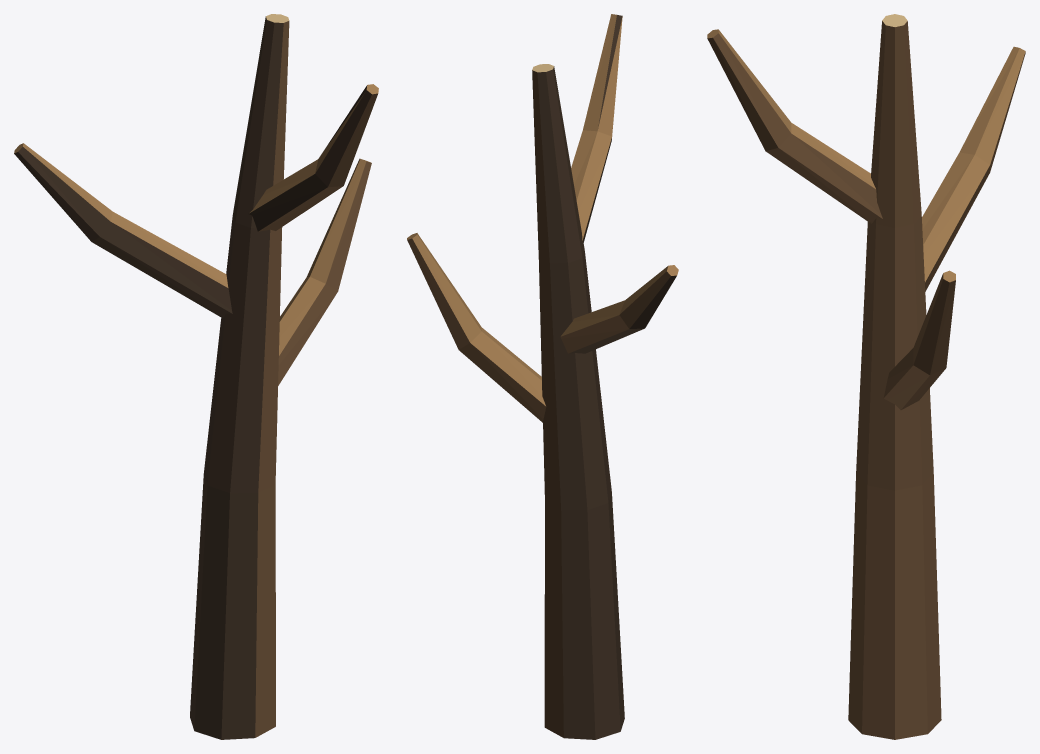
The model's file is TW_TREE_DEAD_FORK_A_LOD0.glb.
3 views of the same model, side by side, from view 1: azimuth 30°, elevation 25°; view 2: azimuth 150°, elevation 25°; view 3: azimuth 270°, elevation 25° (orthographic). The views are drawn at different scales.
Visible parts, largest first — view 1: TW_TREE_DEAD_FORK_A_LOD0; view 2: TW_TREE_DEAD_FORK_A_LOD0; view 3: TW_TREE_DEAD_FORK_A_LOD0.
Part boxes in pixels (bbox=[...]): TW_TREE_DEAD_FORK_A_LOD0: bbox=[14, 14, 378, 739]; TW_TREE_DEAD_FORK_A_LOD0: bbox=[407, 14, 678, 739]; TW_TREE_DEAD_FORK_A_LOD0: bbox=[707, 14, 1025, 739].
Size of the model in its own units: 1.31 by 2.67 by 1.07.
1 material, 1 textured.
